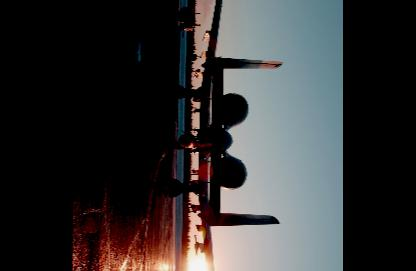A10: (169, 0, 286, 269)
